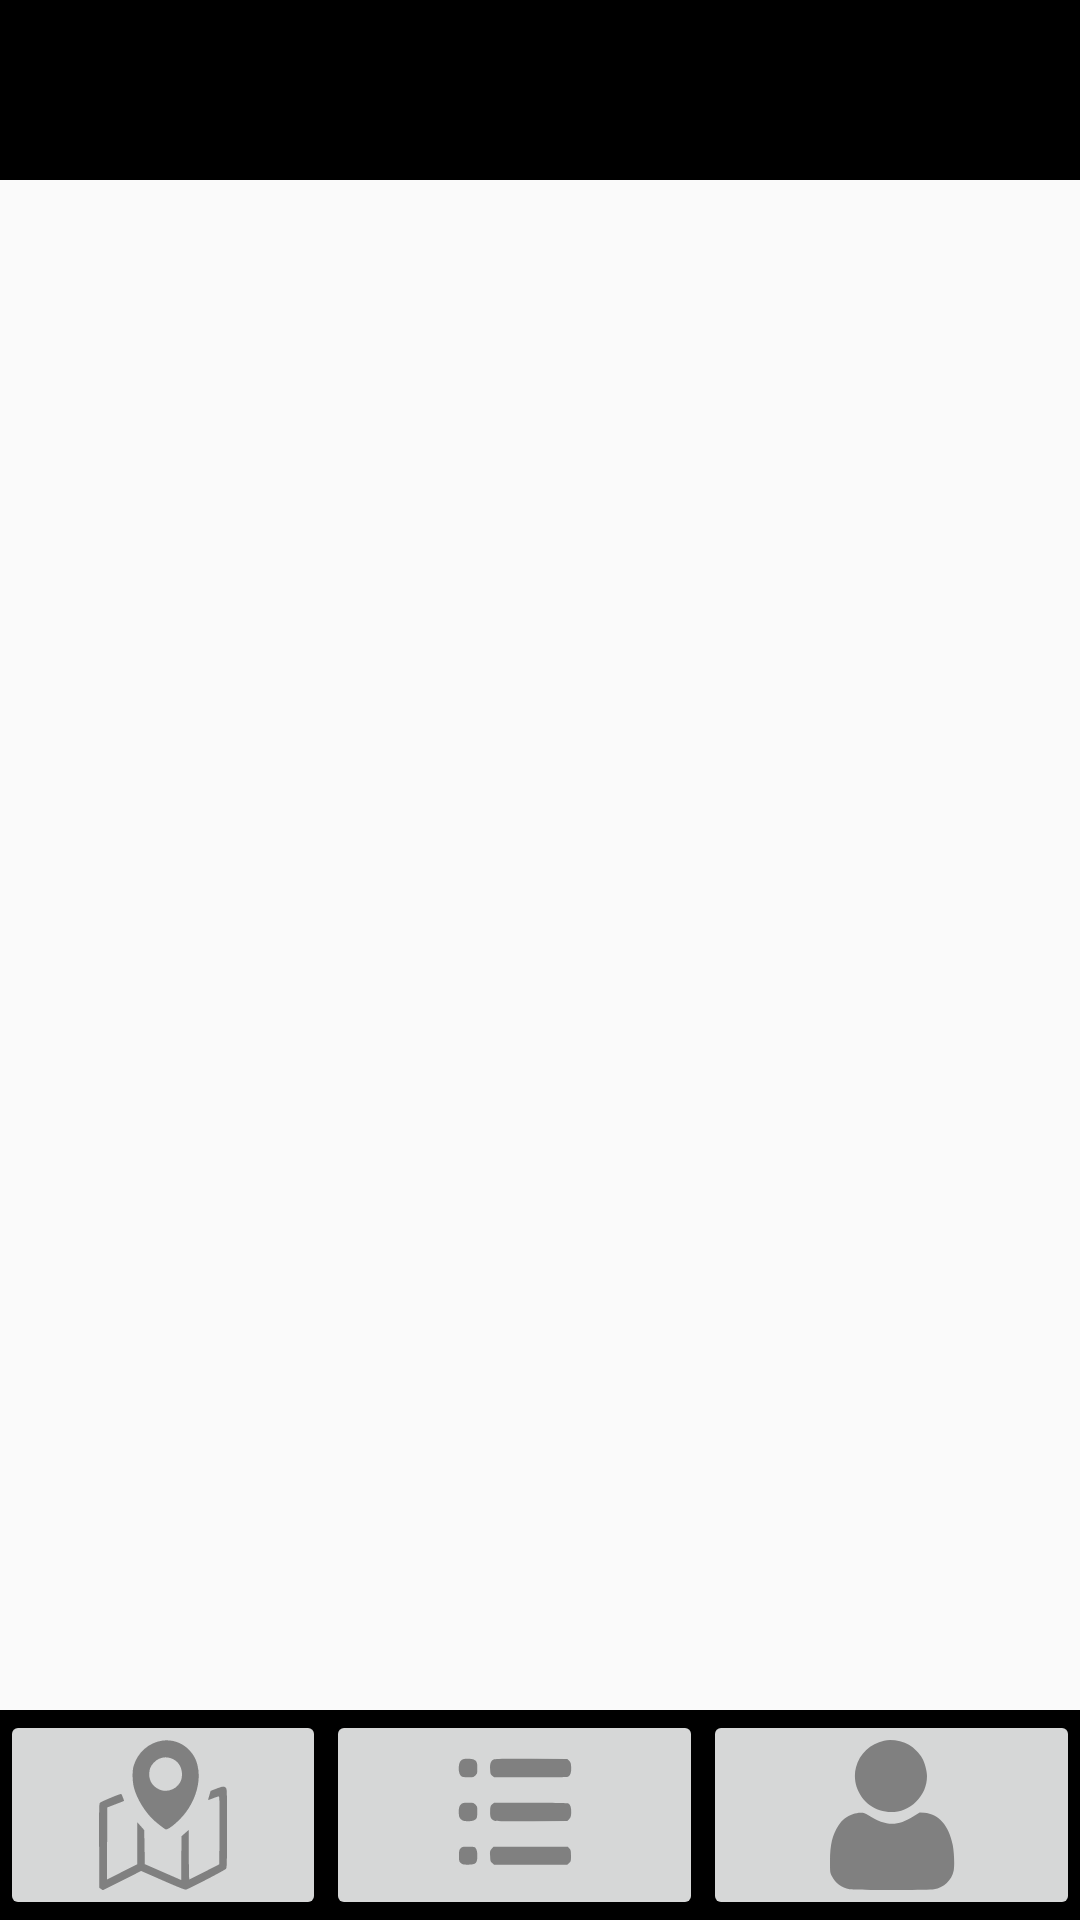

Icon bounding boxes for this 1080*1920 phone screenshot, format [x1, y1, x2, y2]:
map: [12, 1728, 314, 1902]
profile: [715, 1728, 1068, 1902]
ticketlist: [338, 1728, 691, 1902]
